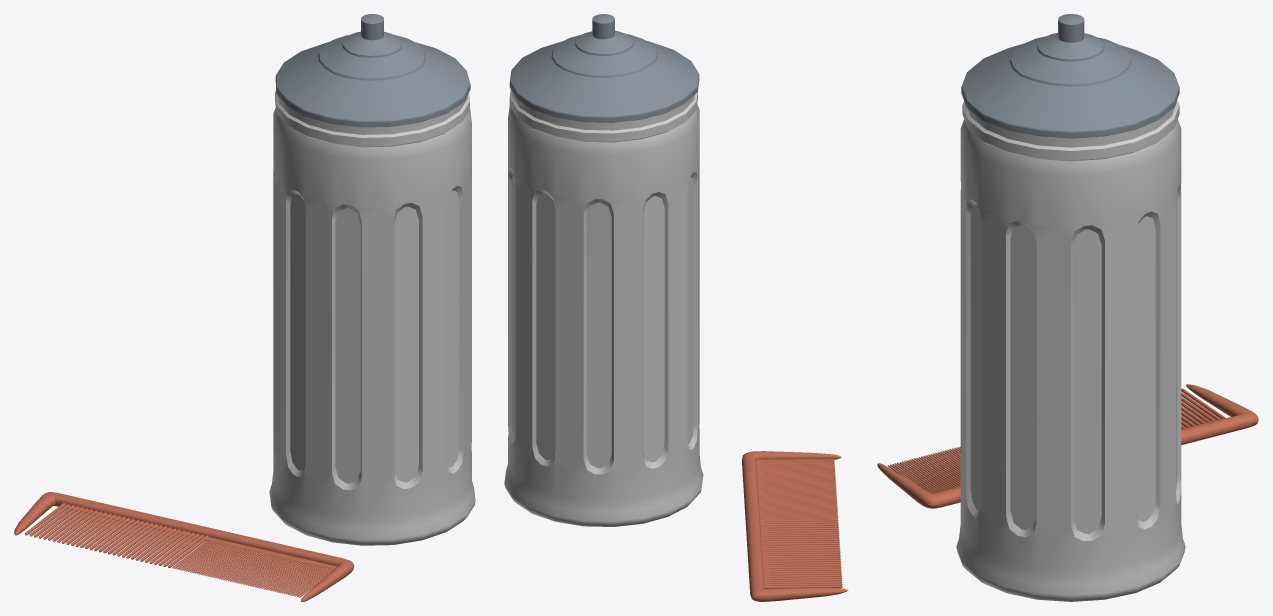
File: CombJarWithWater2.fbx
The picture shows the model from 3 angles, left to right: view 1: azimuth 30°, elevation 25°; view 2: azimuth 150°, elevation 25°; view 3: azimuth 270°, elevation 25°; orthographic projection. The views are drawn at different scales.
Visible parts, largest first — view 1: smCombJarGlass, smComb_High, smCombJarMetal; view 2: smCombJarGlass, smComb_High, smCombJarMetal; view 3: smCombJarGlass, smCombJarMetal, smComb_High.
Boxes of the visible parts, <box> form: smCombJarGlass: <box>269,91,475,545</box>; smComb_High: <box>14,492,354,601</box>; smCombJarMetal: <box>275,14,470,127</box>; smCombJarGlass: <box>504,89,703,526</box>; smComb_High: <box>742,451,848,601</box>; smCombJarMetal: <box>509,14,699,122</box>; smCombJarGlass: <box>956,100,1185,601</box>; smCombJarMetal: <box>961,14,1179,138</box>; smComb_High: <box>877,384,1258,508</box>.
Bounding box in the file's own units: 18.79 × 22.18 × 14.2.
